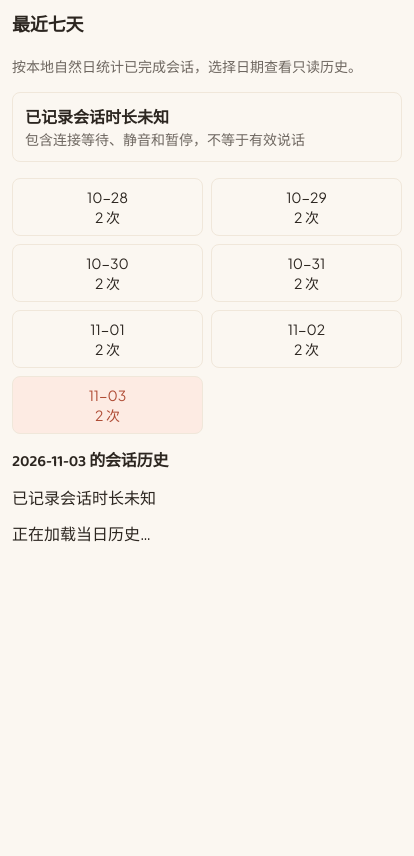
Test: WeeklyProgress 请求归属与只读历史 › 首屏历史旧 success/finally 晚于切日的新请求，不清除新 loading 或槽位
Click the button "11-02 2 次" at x=306, y=339, box [211,310,402,368]
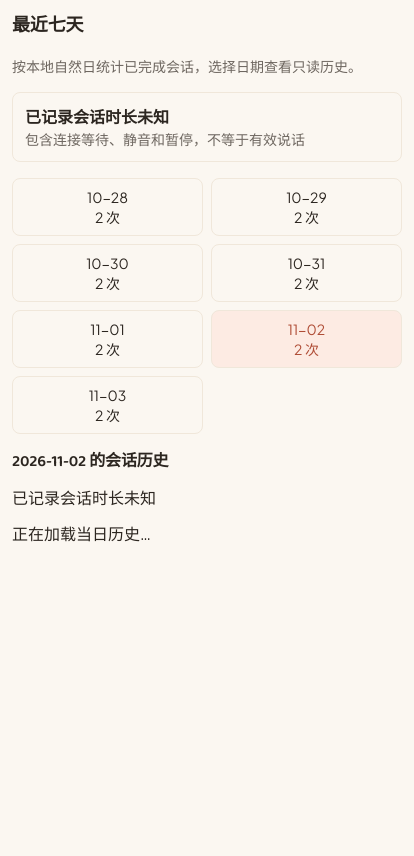
Expected: the text "正在加载当日历史…" is shown, [12,523,151,544]
Click the button "11-02 2 次" at x=306, y=339, box [211,310,402,368]
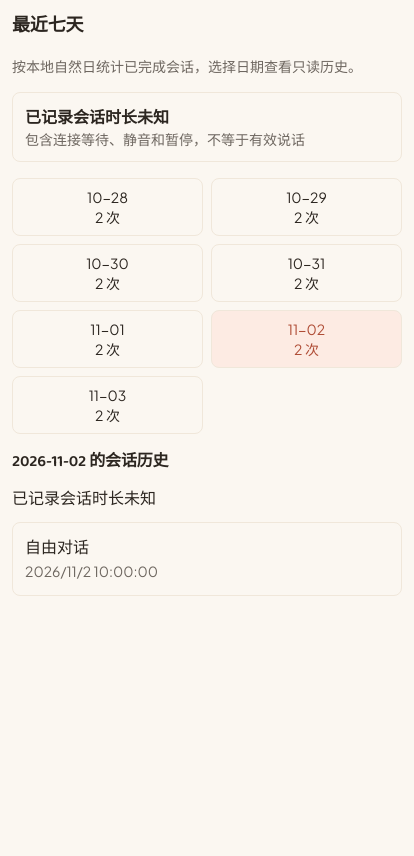
Now the message "正在加载当日历史…" is gone
